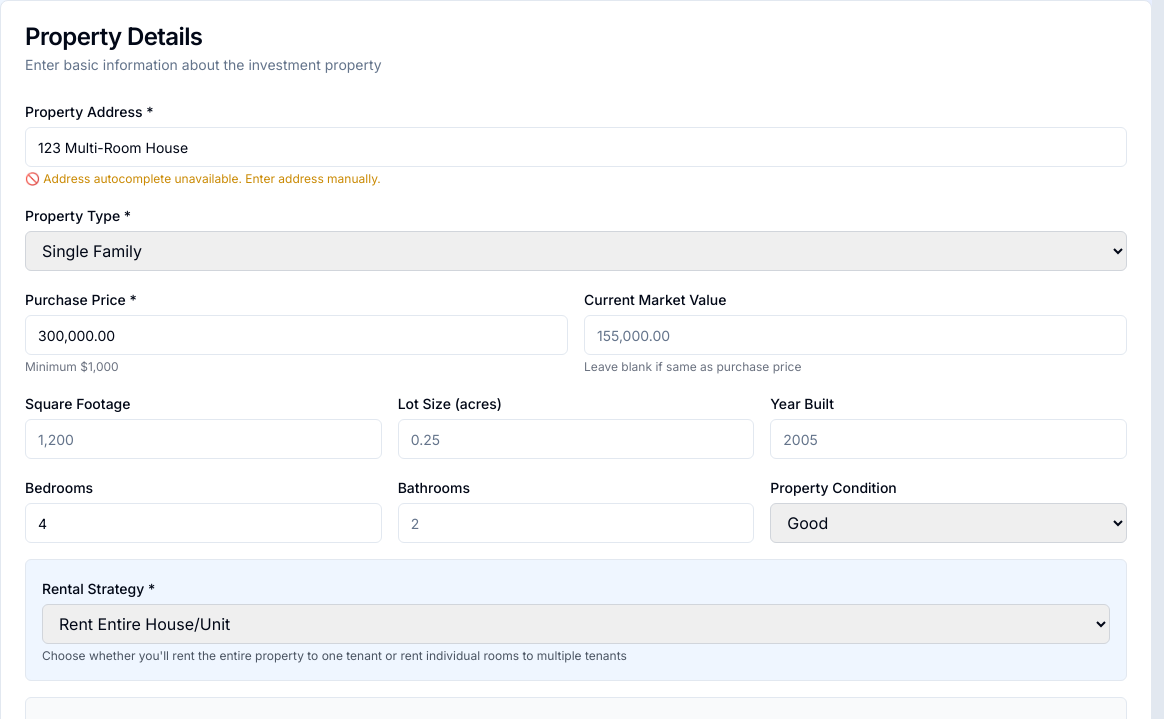
Test: Multi-Room Rental Strategy Feature › should handle room count changes dynamically
The image size is (1164, 719).
Switch to individual-rooms strategy
Select "Rent Individual Rooms" in the dropdown labelled "Rental Strategy *": (576, 624) [42,604,1110,644]
(page scrolled)
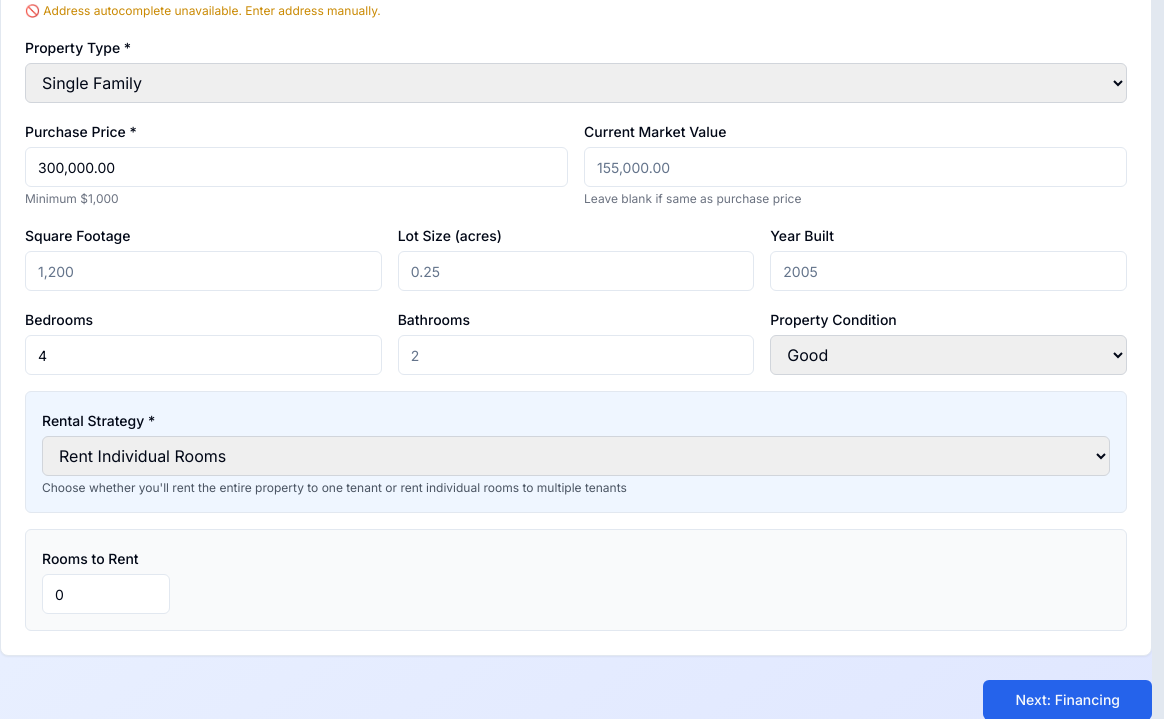
Start with 2 rooms
Replace the text in the number field labelled "Rooms to Rent" with "2": (106, 594) [42,574,170,614]
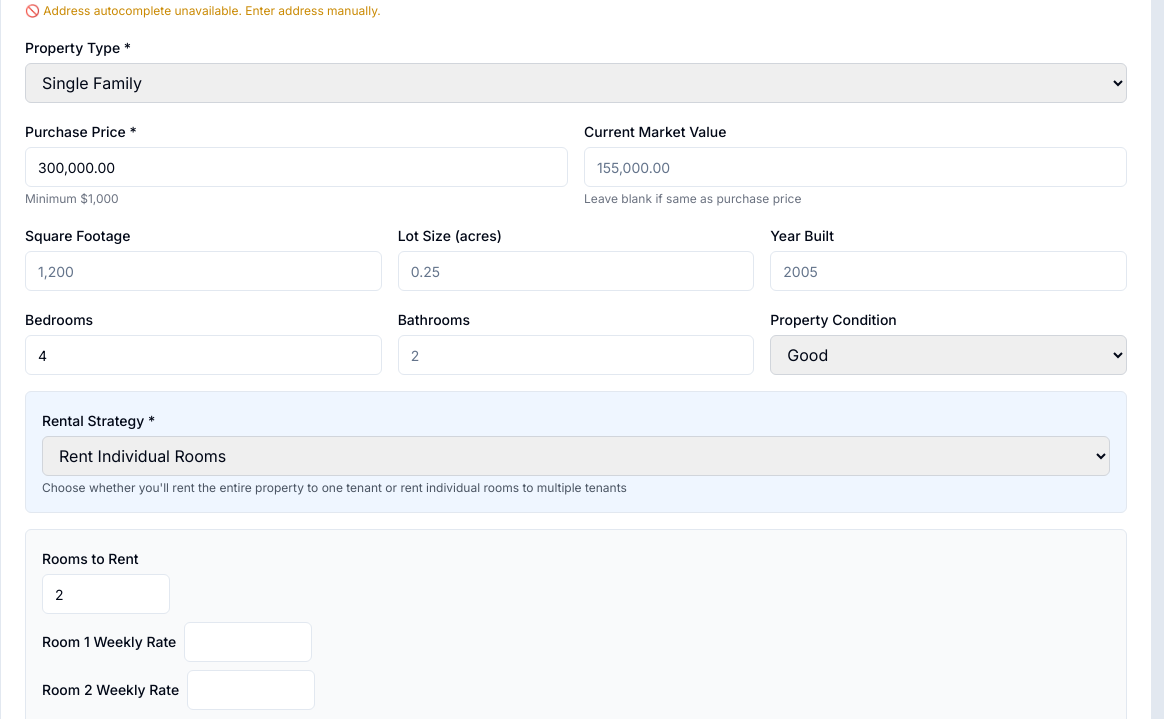
Result: the field labelled "Room 1 Weekly Rate" is shown at [184,622,312,662]
Result: the field labelled "Room 2 Weekly Rate" is shown at [187,670,315,710]
Increase to 3 rooms
Replace the text in the number field labelled "Rooms to Rent" with "3": (106, 594) [42,574,170,614]
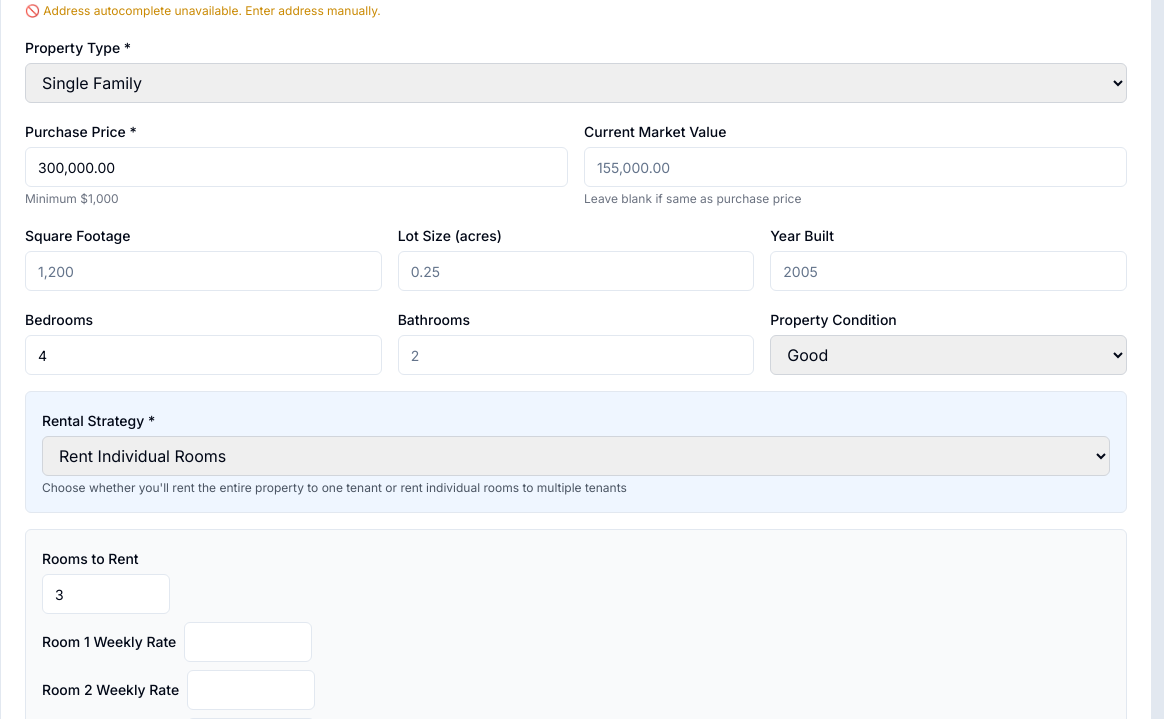
Result: the field labelled "Room 1 Weekly Rate" is shown at [184,622,312,662]
Result: the field labelled "Room 2 Weekly Rate" is shown at [187,670,315,710]
Decrease to 1 room
Replace the text in the number field labelled "Rooms to Rent" with "1": (106, 594) [42,574,170,614]
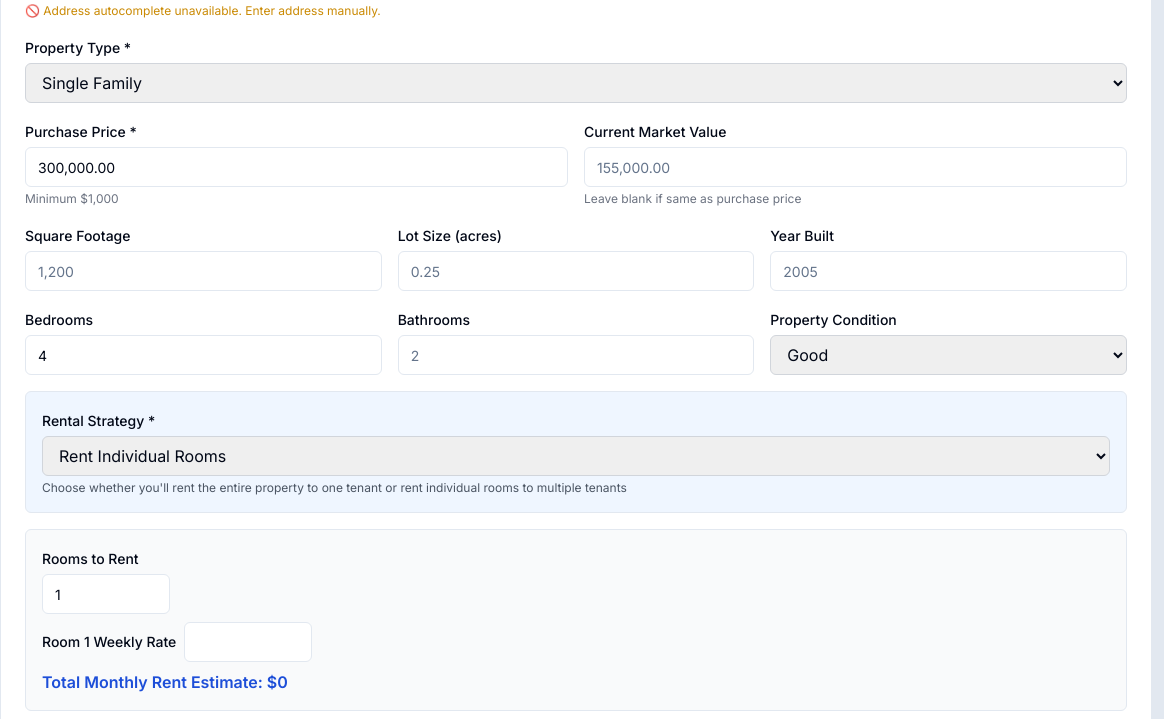
Result: the field labelled "Room 1 Weekly Rate" is shown at [184,622,312,662]
Result: the label labelled "Room 2 Weekly Rate" is gone
